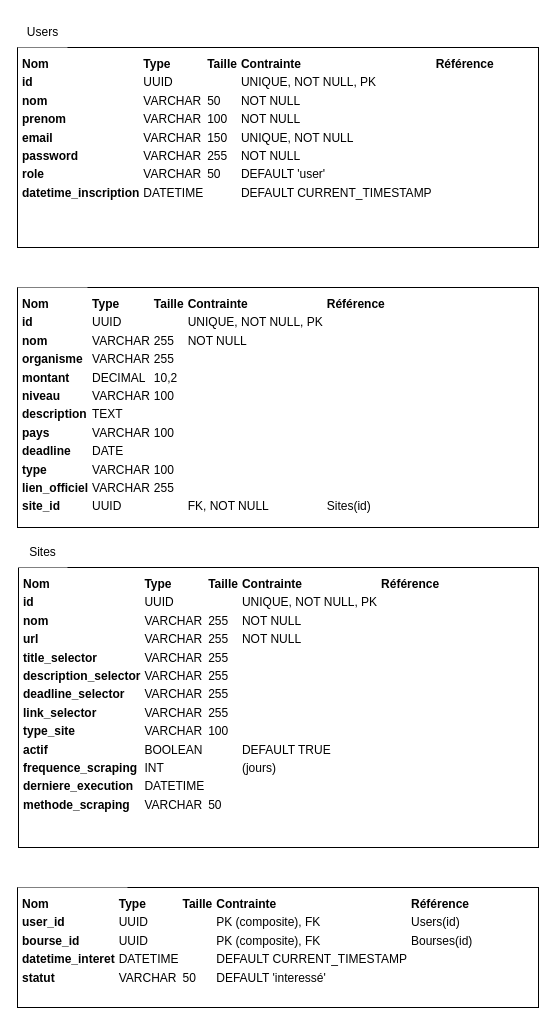
Some shapes in this 556 by 1025 pixel diagram are drawn without their labels. The shapes that lost their labels are listed below. From the top down, each one's centre as x and y in pixels, then its label:
the point at 52,272: Bourses
the point at 72,872: Users_Bourses
